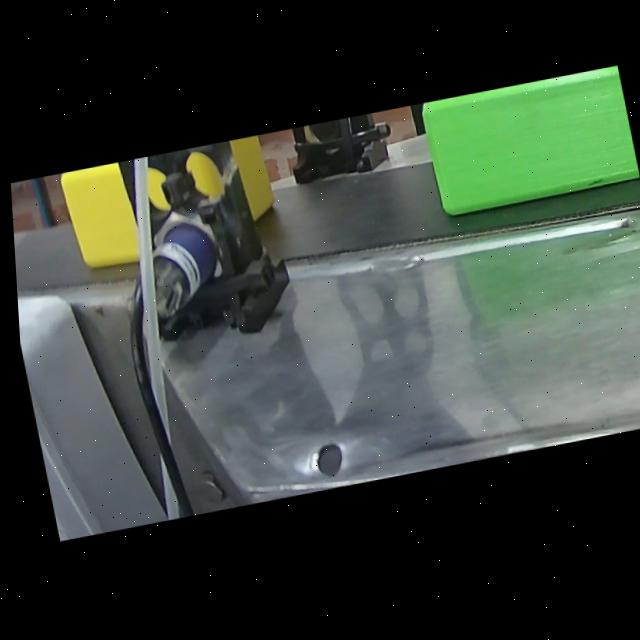greenBox: (407, 72, 640, 231)
yellowBox: (51, 135, 292, 280)
